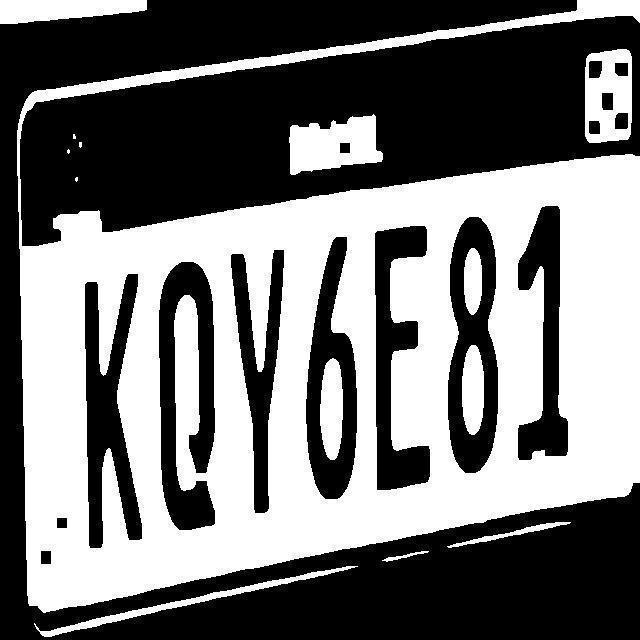1: (512, 200, 578, 462)
6: (300, 229, 363, 503)
8: (446, 214, 502, 476)
e: (370, 222, 436, 496)
k: (76, 267, 146, 554)
q: (156, 259, 220, 532)
y: (228, 244, 286, 516)
